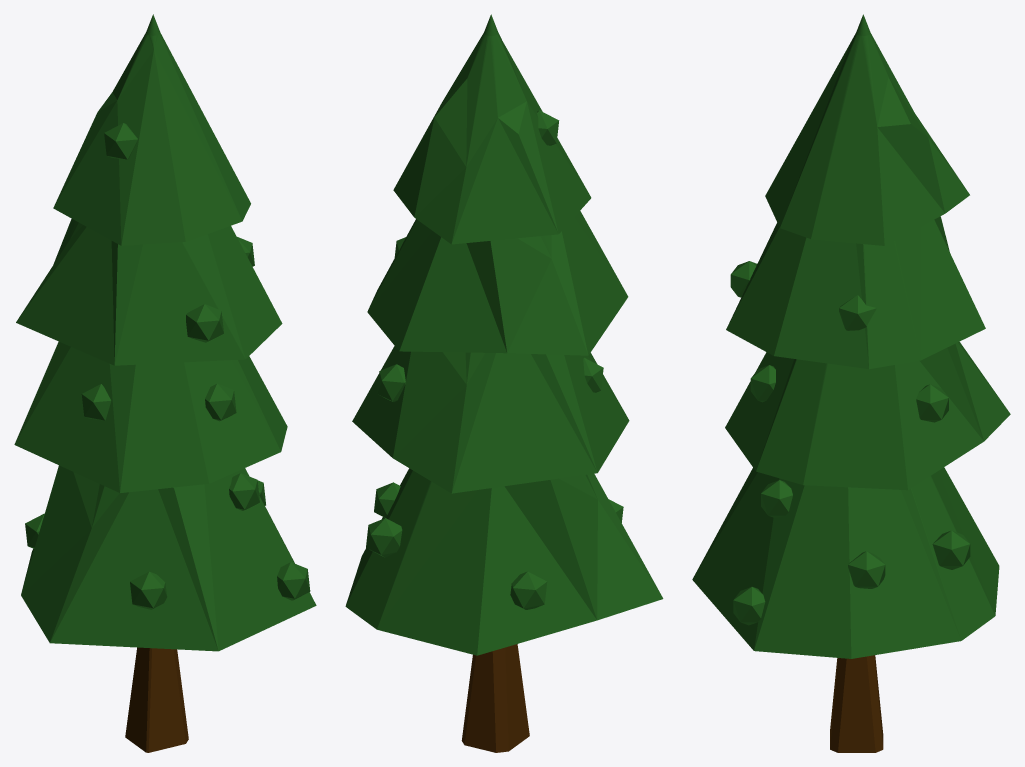
File: pinomanzanas.fbx
3 views of the same model, side by side, from view 1: azimuth 30°, elevation 25°; view 2: azimuth 150°, elevation 25°; view 3: azimuth 270°, elevation 25° (orthographic).
Parts seen in each view (by area): view 1: arbol fino.001; view 2: arbol fino.001; view 3: arbol fino.001.
Boxes of the visible parts, x1=… form: arbol fino.001: x1=14, y1=14, x2=316, y2=752; arbol fino.001: x1=345, y1=14, x2=663, y2=752; arbol fino.001: x1=692, y1=14, x2=1010, y2=752.
Bounding box in the file's own units: 561 × 1426 × 566.
